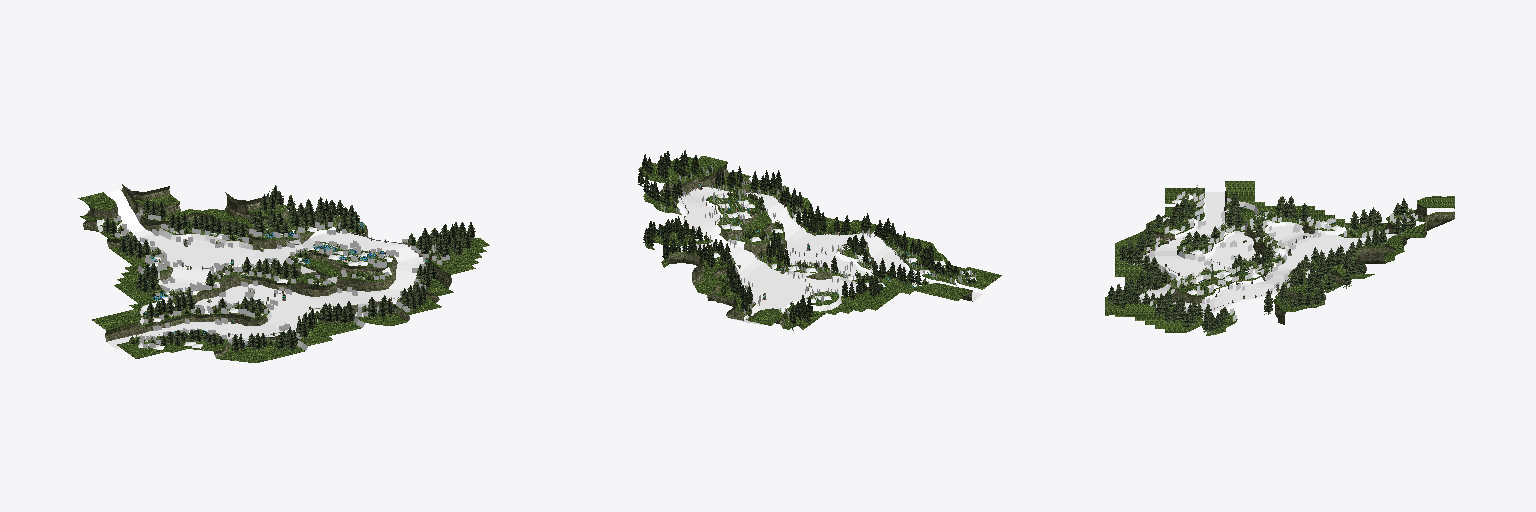
3 renders of one model, left to right at view 1: azimuth 30°, elevation 25°; view 2: azimuth 150°, elevation 25°; view 3: azimuth 270°, elevation 25°, orthographic.
Visible parts, largest first — view 1: Object.131, Object.32, Object.25, Object.307, Object.35, Object.300, Object.22, Object.318, Object.303, Object.23, Object.349, Object.16 (+14 smaller); view 2: Object.25, Object.303, Object.307, Object.336, Object.32, Object.314, Object.23, Object.326, Object.22, Object.322, Object.312, Object.304 (+2 smaller); view 3: Object.32, Object.25, Object.300, Object.304, Object.326, Object.23, Object.349, Object.27, Object.315.
Part boxes in pixels (bbox=[...]): Object.131: bbox=[301, 262, 376, 310]; Object.32: bbox=[306, 197, 359, 230]; Object.25: bbox=[416, 224, 470, 255]; Object.307: bbox=[182, 241, 256, 264]; Object.35: bbox=[173, 213, 246, 238]; Object.300: bbox=[167, 265, 241, 304]; Object.22: bbox=[331, 295, 393, 325]; Object.318: bbox=[371, 261, 417, 301]; Object.303: bbox=[236, 288, 308, 313]; Object.23: bbox=[400, 264, 431, 311]; Object.349: bbox=[431, 252, 481, 293]; Object.16: bbox=[236, 329, 298, 351]; Object.25: bbox=[645, 151, 698, 201]; Object.303: bbox=[787, 239, 838, 266]; Object.307: bbox=[739, 270, 793, 301]; Object.336: bbox=[831, 288, 895, 311]; Object.32: bbox=[643, 218, 696, 248]; Object.314: bbox=[765, 200, 806, 239]; Object.23: bbox=[727, 166, 781, 194]; Object.326: bbox=[907, 283, 972, 300]; Object.22: bbox=[780, 187, 819, 231]; Object.322: bbox=[937, 265, 1001, 289]; Object.312: bbox=[858, 233, 901, 265]; Object.304: bbox=[766, 284, 816, 305]; Object.32: bbox=[1279, 266, 1325, 308]; Object.25: bbox=[1157, 292, 1216, 333]; Object.300: bbox=[1244, 229, 1304, 258]; Object.304: bbox=[1305, 233, 1354, 249]; Object.326: bbox=[1225, 181, 1263, 208]; Object.23: bbox=[1107, 284, 1155, 308]; Object.349: bbox=[1115, 304, 1163, 324]; Object.27: bbox=[1322, 251, 1364, 277]; Object.315: bbox=[1191, 284, 1254, 307].
Size of the model in its own units: 164 by 24 by 140.
15 materials, 12 textured.